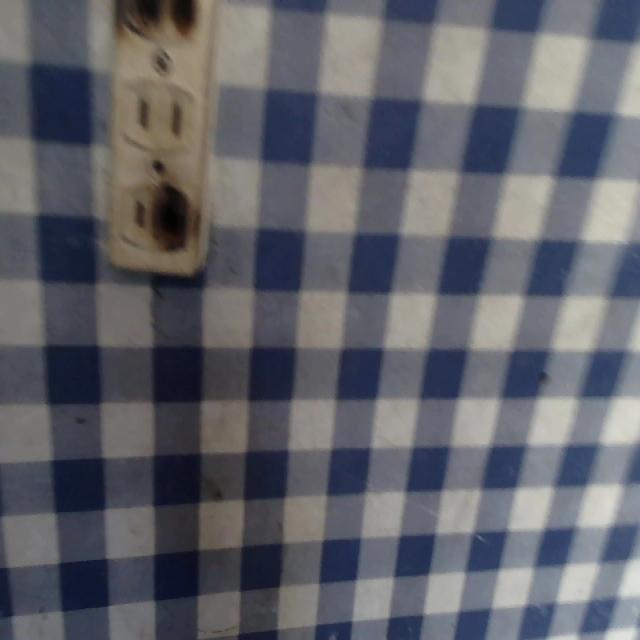-: (110, 0, 203, 43), (148, 183, 193, 252)
